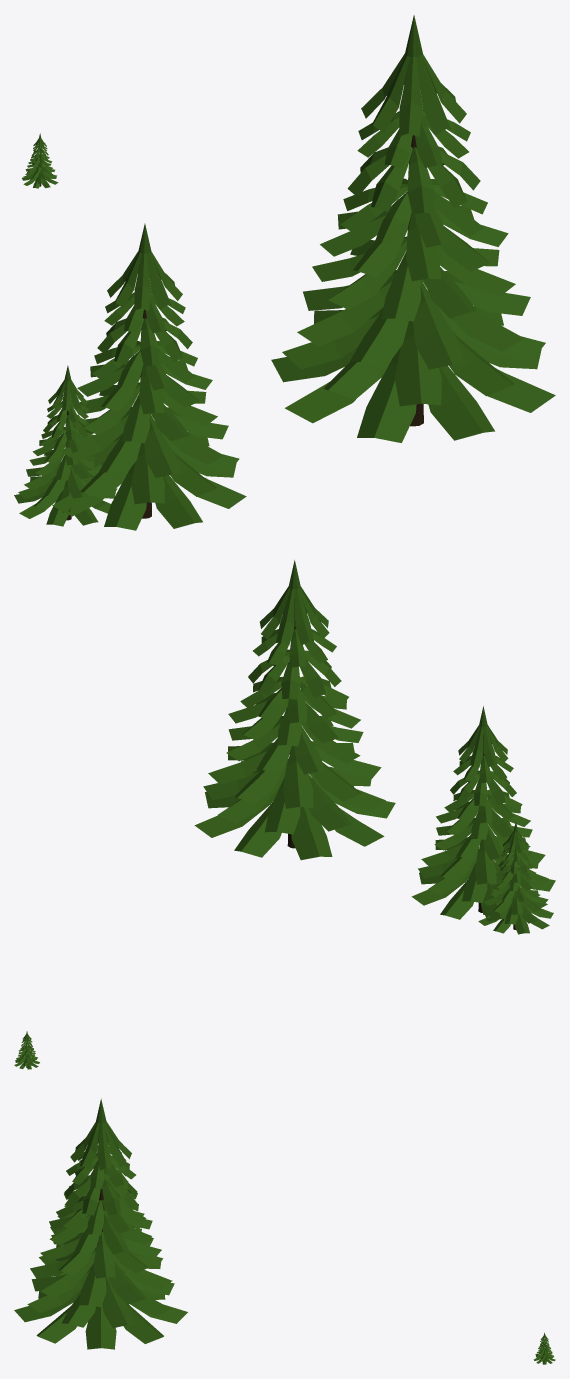
File: decor12.obj
3 views of the same model, one above another, from view 1: azimuth 30°, elevation 25°; view 2: azimuth 150°, elevation 25°; view 3: azimuth 270°, elevation 25° (orthographic). The views are drawn at different scales.
Parts seen in each view (by area): view 1: Fir-tree_Cylinder.007, Fir-tree_Cylinder.006_Fir-tree_Cylinder.005, Fir-tree_Cylinder.005_Fir-tree_Cylinder.006, Fir-tree_Cylinder.004; view 2: Fir-tree_Cylinder.007, Fir-tree_Cylinder.006_Fir-tree_Cylinder.005, Fir-tree_Cylinder.005_Fir-tree_Cylinder.006; view 3: Fir-tree_Cylinder.007, Fir-tree_Cylinder.006_Fir-tree_Cylinder.005, Fir-tree_Cylinder.004.
Part boxes in pixels (bbox=[...]): Fir-tree_Cylinder.007: bbox=[271, 15, 555, 442]; Fir-tree_Cylinder.006_Fir-tree_Cylinder.005: bbox=[52, 223, 246, 530]; Fir-tree_Cylinder.005_Fir-tree_Cylinder.006: bbox=[14, 365, 117, 526]; Fir-tree_Cylinder.004: bbox=[22, 133, 58, 188]; Fir-tree_Cylinder.007: bbox=[194, 560, 395, 860]; Fir-tree_Cylinder.006_Fir-tree_Cylinder.005: bbox=[411, 706, 555, 921]; Fir-tree_Cylinder.005_Fir-tree_Cylinder.006: bbox=[478, 821, 553, 934]; Fir-tree_Cylinder.007: bbox=[14, 1098, 187, 1349]; Fir-tree_Cylinder.006_Fir-tree_Cylinder.005: bbox=[39, 1141, 163, 1276]; Fir-tree_Cylinder.004: bbox=[533, 1332, 555, 1364].
Size of the model in its own units: 5967 by 5046 by 9399.
